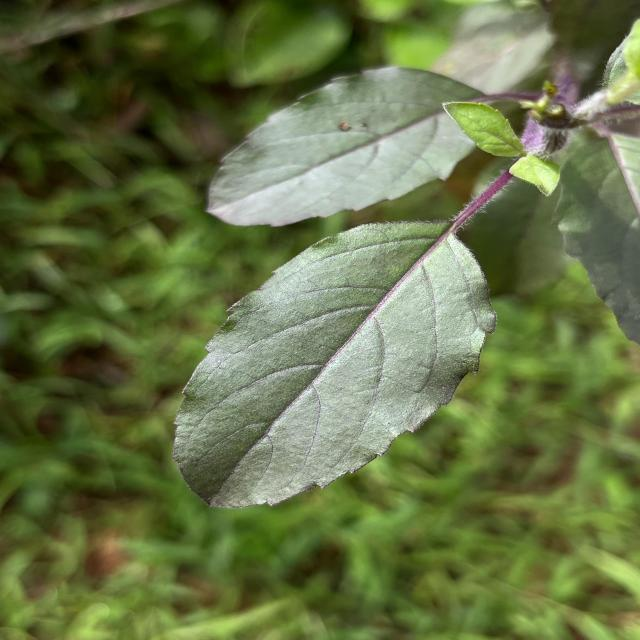Ocimum tenuiflorum: (163, 216, 503, 513)
